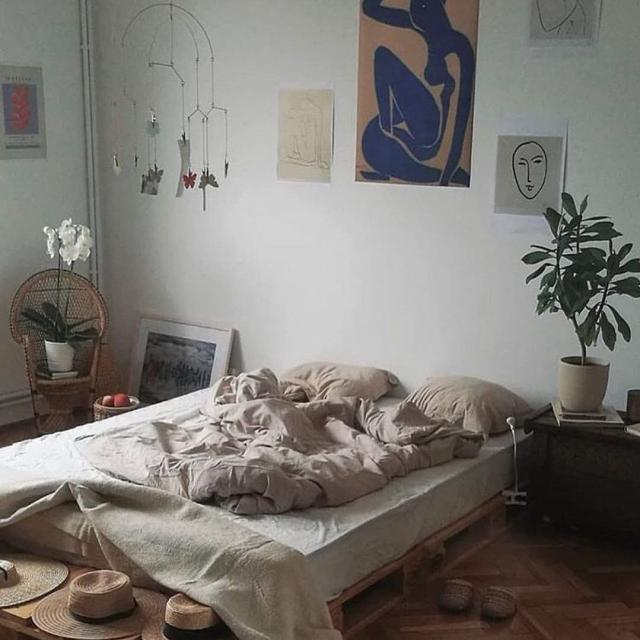bed: (0, 353, 538, 608)
